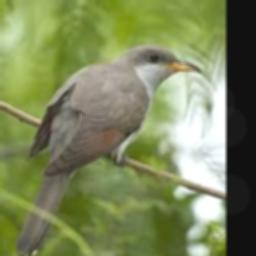Cuckoo: (16, 44, 200, 256)
